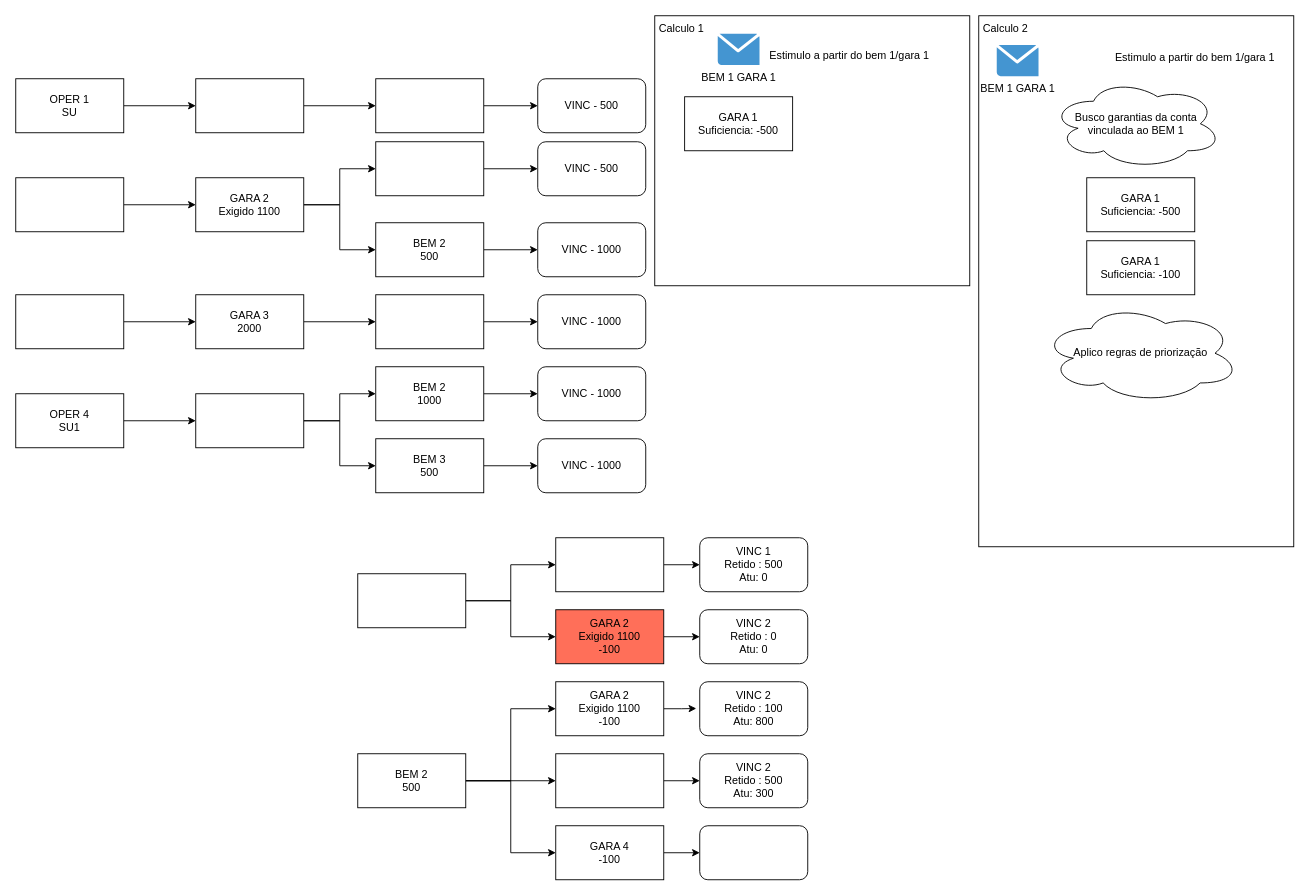
This 1310x896 diagram has some shape labels left out. The centre of each missing label's shape, as x and y in pixels:
BEM 1: [411,600]
BEM 1 1000: [429,105]
BEM 1 500: [429,168]
BEM 2 1500: [429,321]
GARA 1 Exigido: 1500: [249,105]
GARA 1 Exigido: 1500 -500: [609,564]
GARA 3 -500: [609,780]
GARA 4 1600: [249,420]
OPER 2 SF: [69,204]
OPER 3 XX2: [69,321]
VINC 2 Retido : 100 Atu: 900: [753,852]
